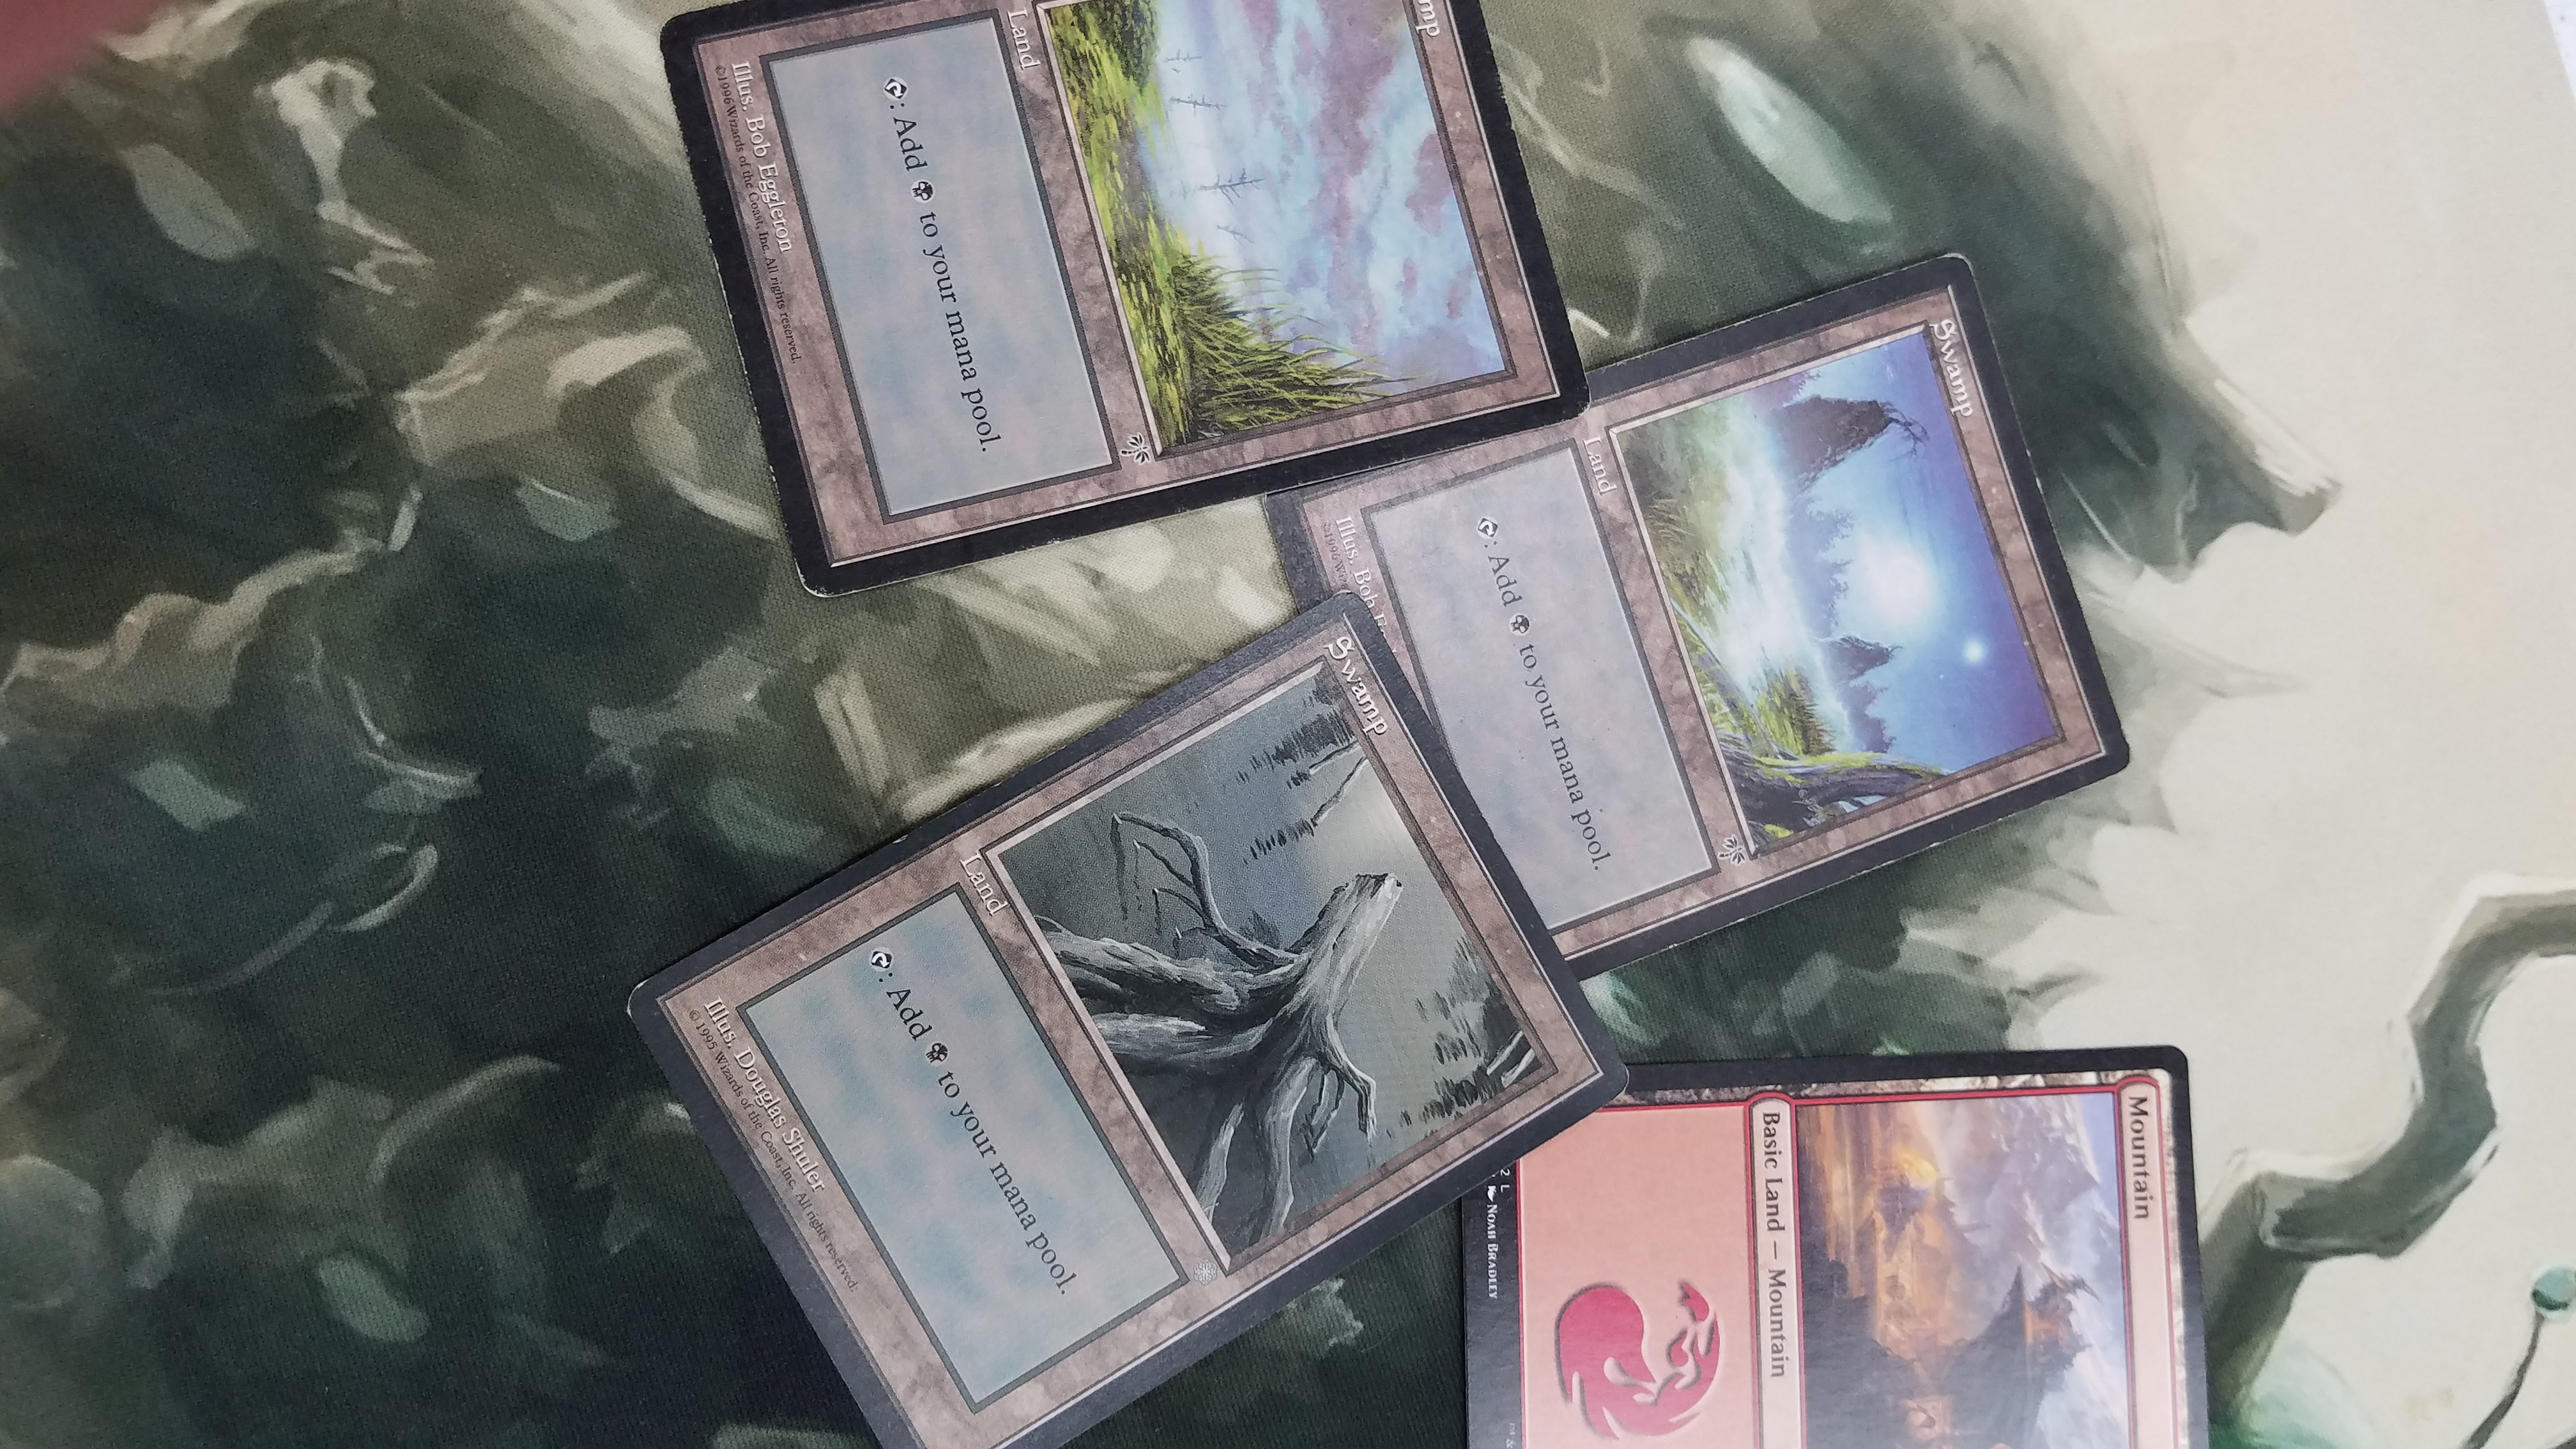Card: (619, 582, 1644, 1449), (1253, 232, 2148, 977), (1451, 1028, 2242, 1449)
